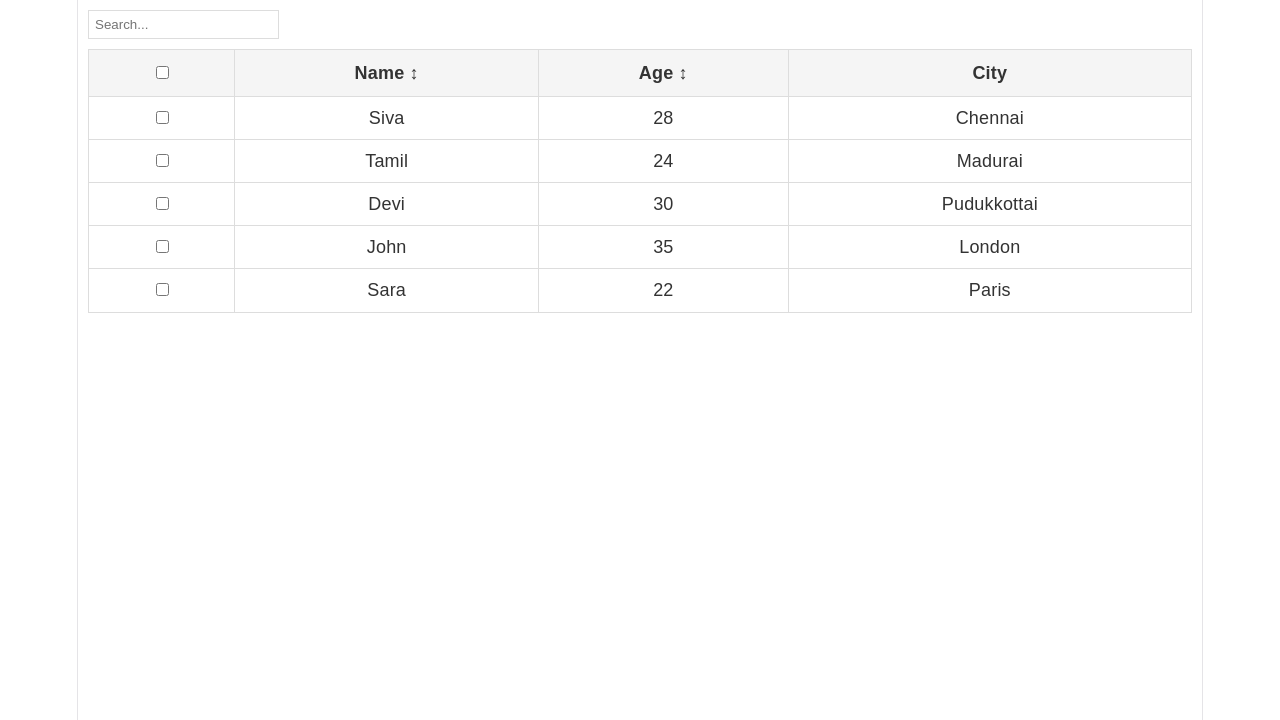
it: DataTable › filters rows based on search input
The width and height of the screenshot is (1280, 720).
Type "Siva" into the field with placeholder "Search...". click: coordinates (184, 24)
box: [88,10,279,39]
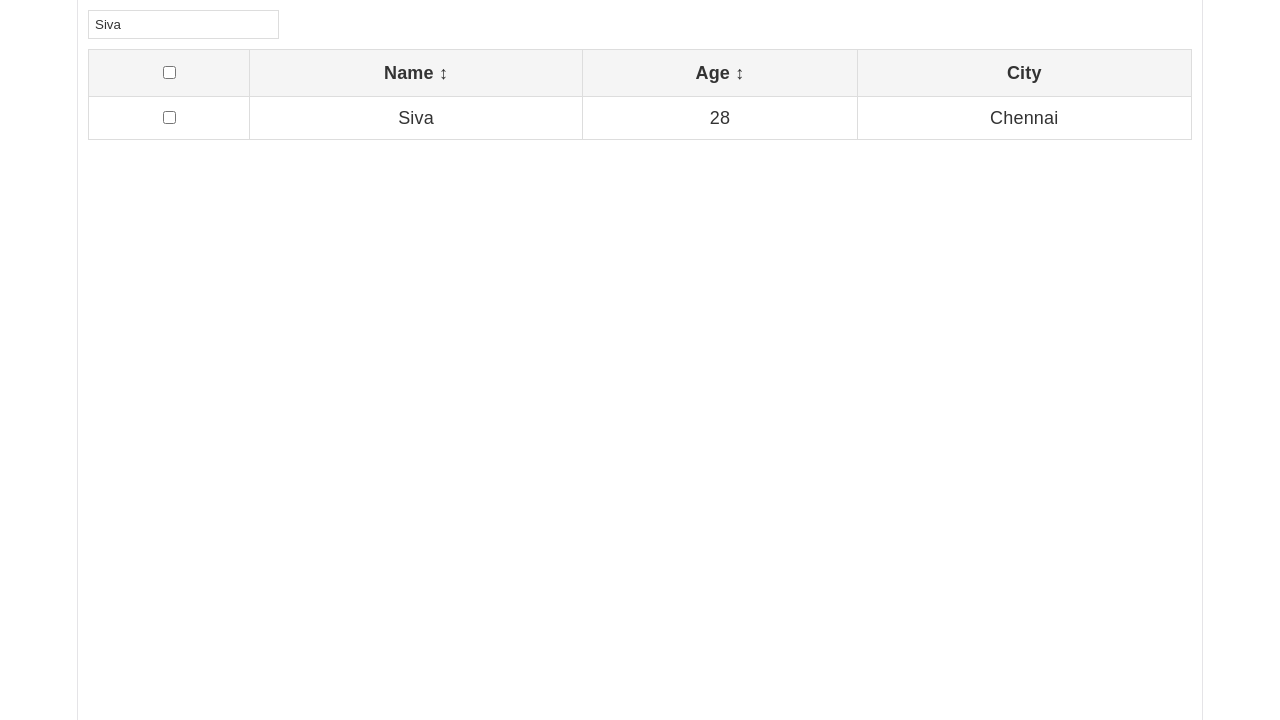
expect the text "Siva" is shown: met, box [249,97,583,140]
expect the text "Tamil" is gone: met
